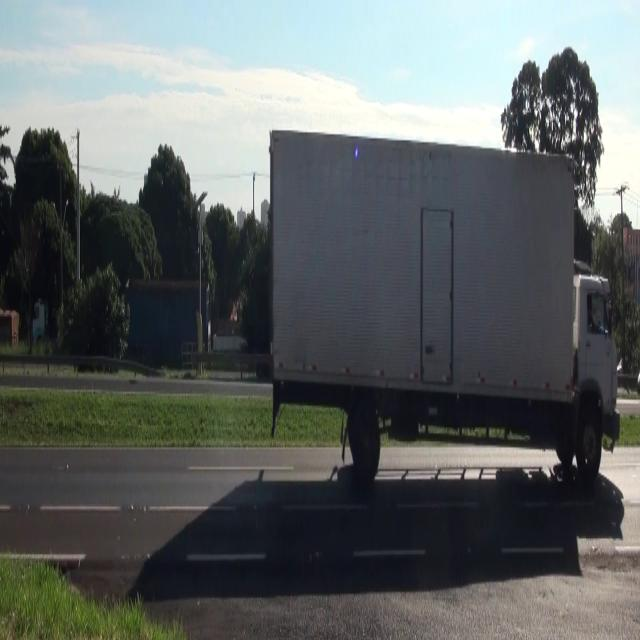-axle: (353, 408, 381, 480), (578, 408, 602, 484)
